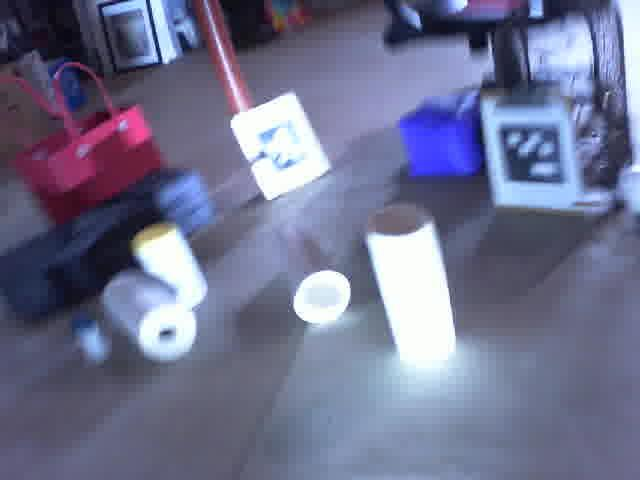coral: (361, 199, 457, 371), (267, 221, 356, 325)
